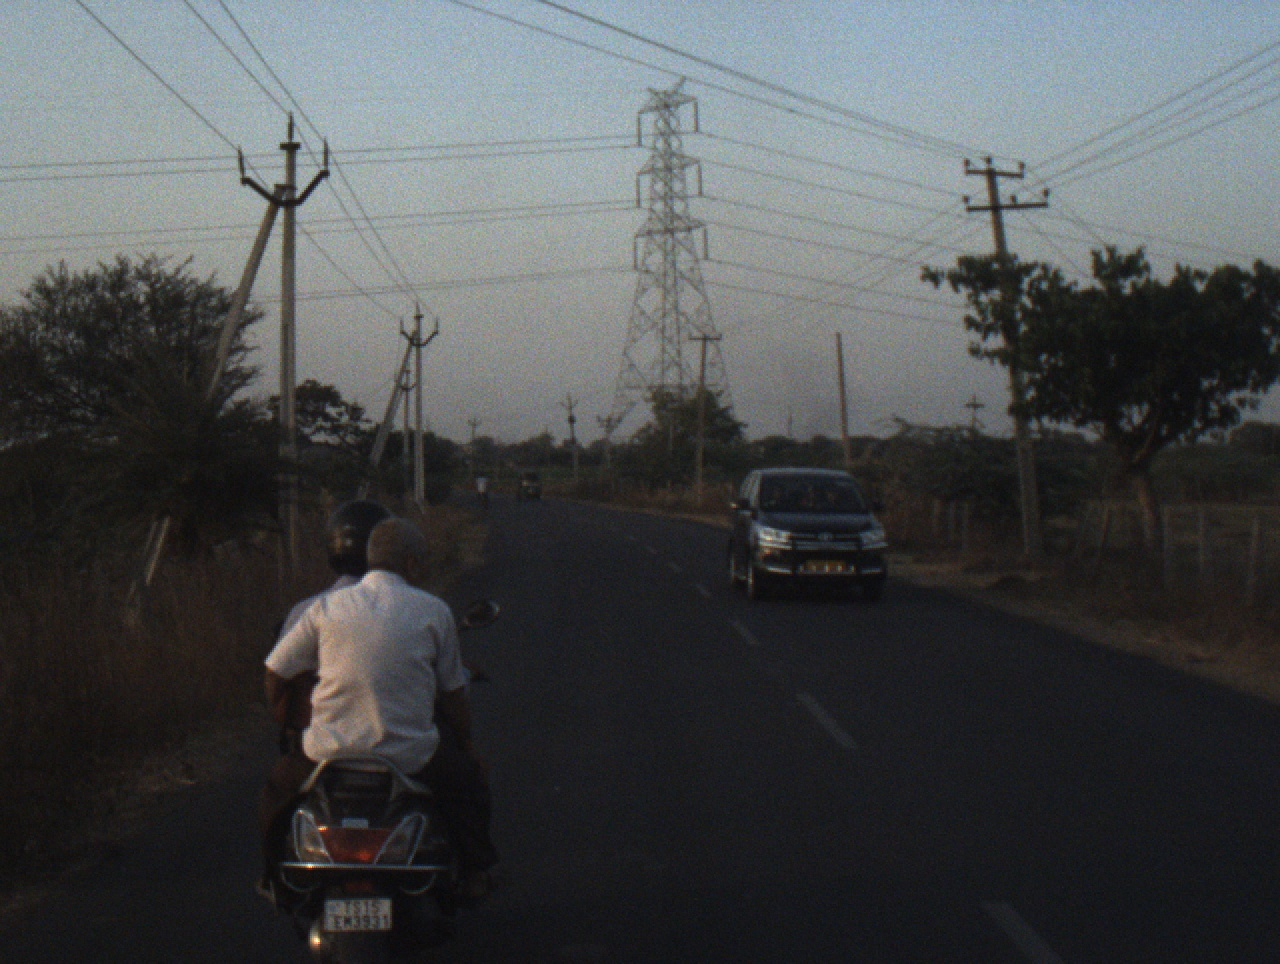autorickshaw: (513, 468, 546, 503)
bicycle: (478, 490, 488, 512)
car: (718, 466, 892, 616)
motorcycle: (251, 592, 504, 946)
rider: (238, 513, 503, 928), (260, 493, 404, 679), (475, 472, 489, 497)
